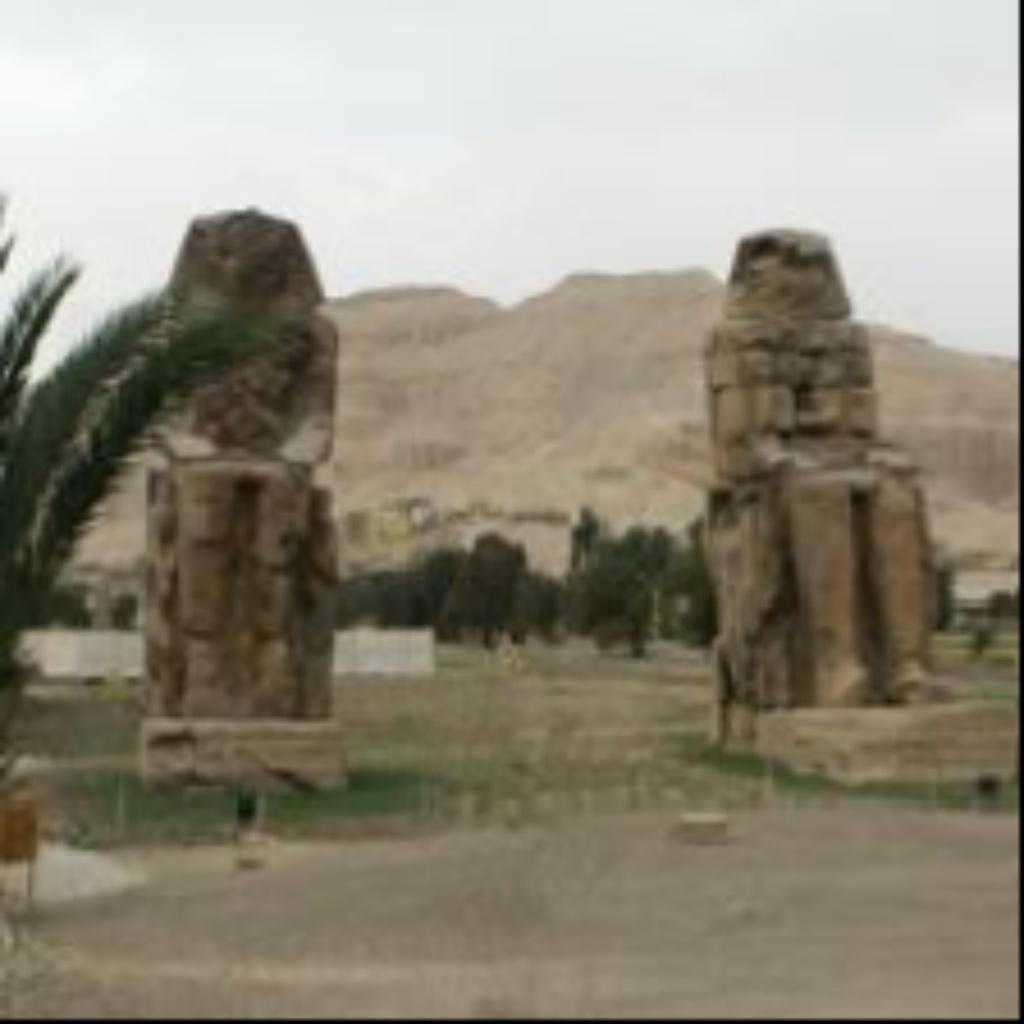Colossoi of Memnon: (132, 178, 374, 782), (686, 220, 951, 746)
